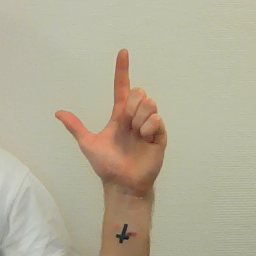L: (54, 46, 169, 194)
